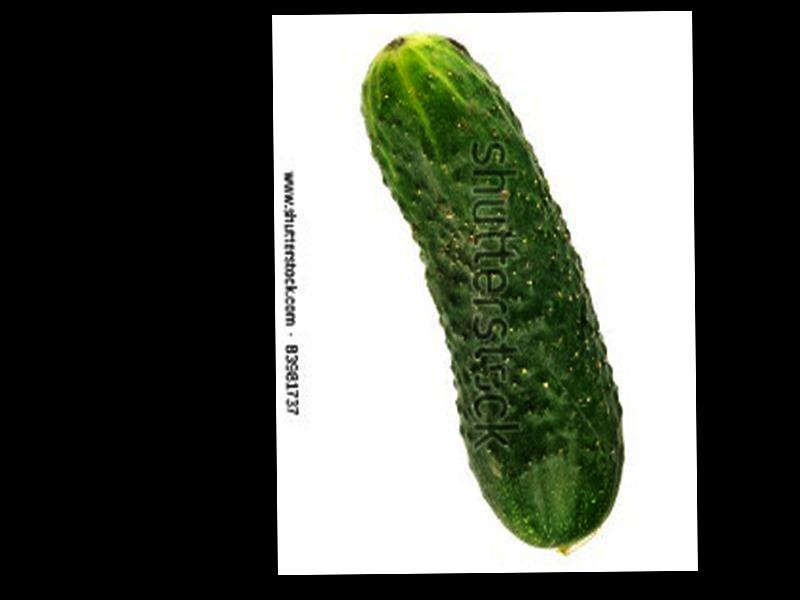Cucumber: (362, 34, 625, 552)
